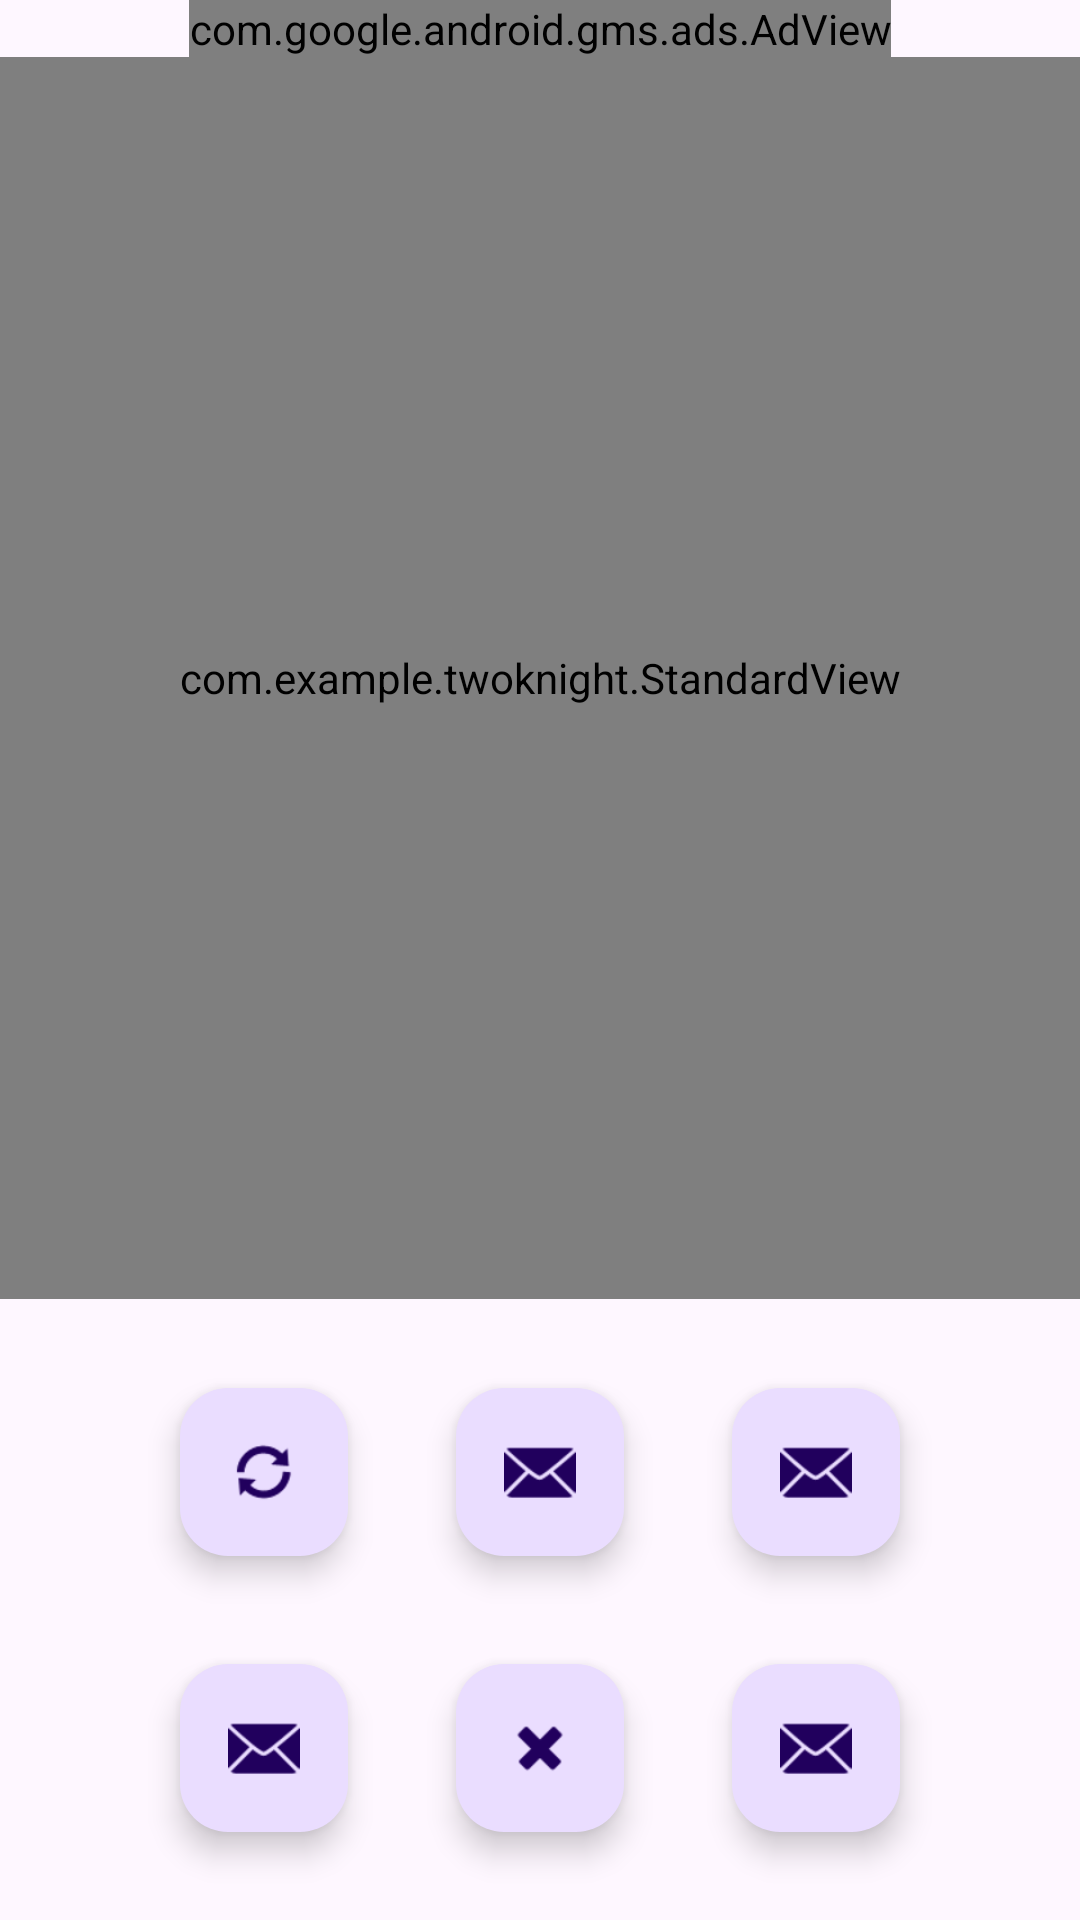

Named icons in this screenshot (1080w x 1920h) and their centers, point (x, y):
delete: point (540, 1748)
email: point (540, 1472), point (816, 1472), point (264, 1748), point (816, 1748)
popup sync: point (264, 1472)
